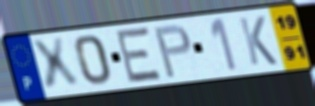0: (72, 34, 114, 87)
1: (207, 16, 239, 75)
E: (114, 25, 164, 85)
K: (237, 14, 280, 67)
P: (152, 23, 193, 80)
X: (28, 35, 84, 94)
